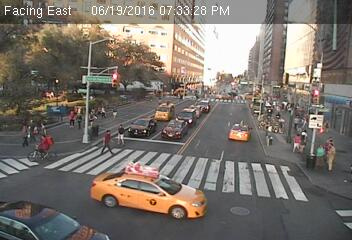neg: (20, 59, 43, 90), (54, 45, 75, 73), (134, 38, 154, 65), (155, 105, 172, 127), (97, 68, 111, 87), (197, 101, 210, 119), (4, 94, 15, 109)
pos: (323, 143, 345, 173), (97, 128, 116, 154), (113, 122, 132, 147), (62, 108, 77, 128), (73, 111, 88, 131), (108, 104, 121, 120)
